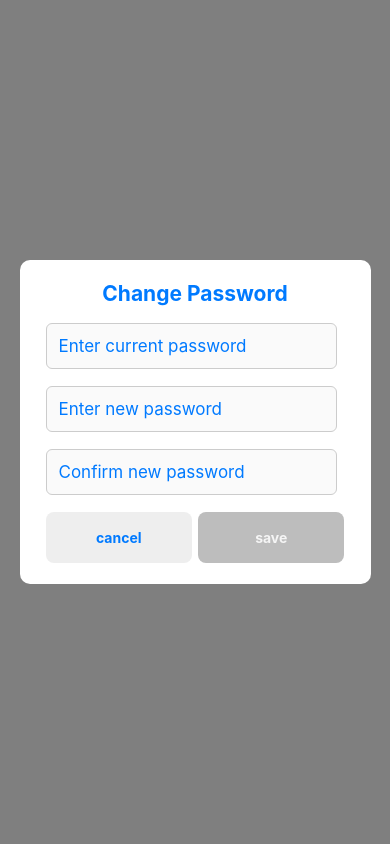
it: ChangePasswordModal › clears error message when passwords match
The image size is (390, 844).
# First set different passwords to show error
Type "newpass123" into the password field with placeholder "Enter new password" at (191, 409), box [46,386,336,432]
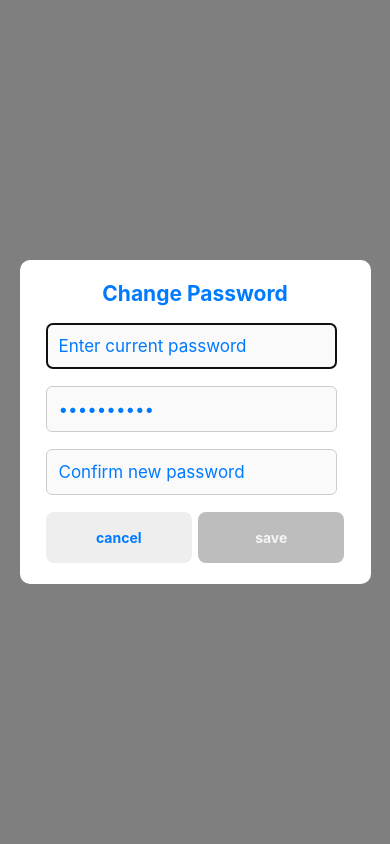
Type "differentpass123" into the password field with placeholder "Confirm new password" at (191, 472), box [46,449,336,495]
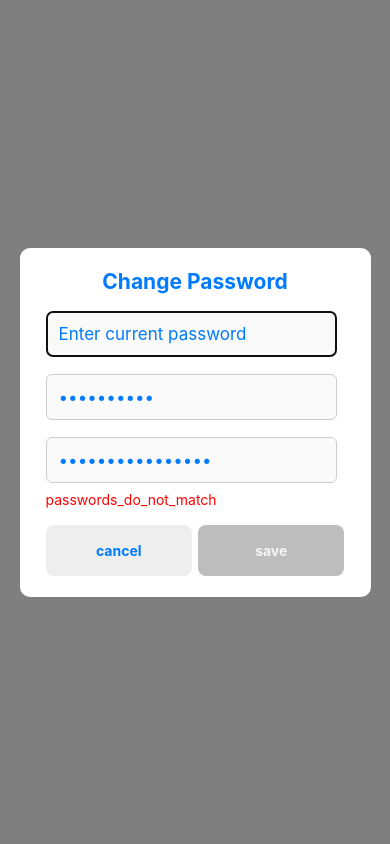
Expected: the text "passwords_do_not_match" is shown, [46,490,217,508]
# Then set matching passwords to clear error
Type "newpass123" into the 2nd password field with placeholder "Confirm new password" at (191, 460), box [46,436,336,482]
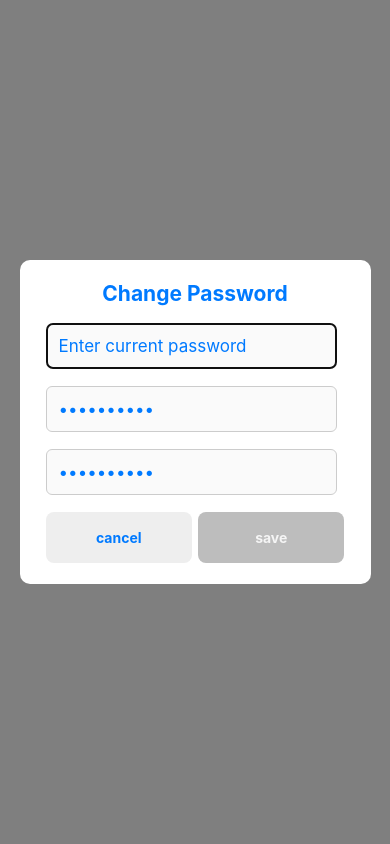
Expected: the text "passwords_do_not_match" is gone
